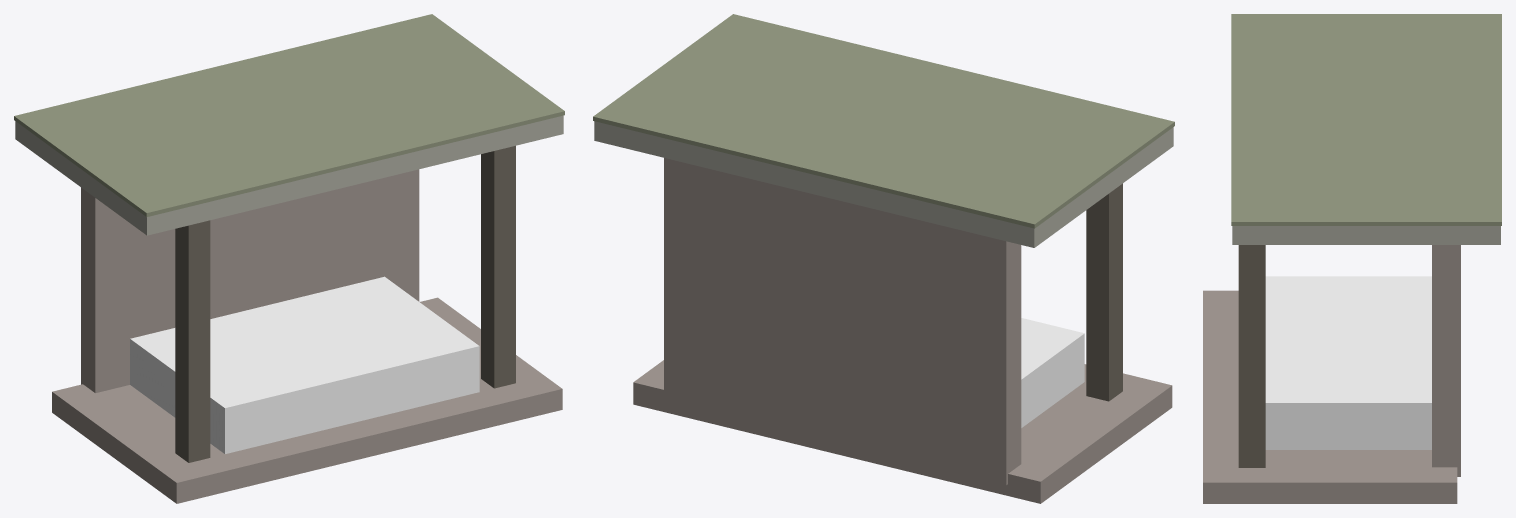
The model's file is covered_building.glb.
3 views of the same model, side by side, from view 1: azimuth 30°, elevation 25°; view 2: azimuth 150°, elevation 25°; view 3: azimuth 270°, elevation 25° (orthographic). The views are drawn at different scales.
Parts seen in each view (by area): view 1: Green canopy cap, Pebble stone platform, Solid rear wall, Low rectangular foundation, Thin overhanging canopy, Square vertical column, Square vertical column.001; view 2: Solid rear wall, Green canopy cap, Low rectangular foundation, Thin overhanging canopy, Square vertical column, Pebble stone platform; view 3: Green canopy cap, Pebble stone platform, Low rectangular foundation, Solid rear wall, Square vertical column.001, Thin overhanging canopy.
Part boxes in pixels (box(x1,y1,x2,y2)): Green canopy cap: box(14, 14, 564, 216); Pebble stone platform: box(130, 276, 479, 453); Solid rear wall: box(81, 169, 419, 393); Low rectangular foundation: box(52, 297, 562, 503); Thin overhanging canopy: box(15, 115, 563, 235); Square vertical column: box(175, 220, 210, 462); Square vertical column.001: box(481, 145, 515, 388); Solid rear wall: box(664, 158, 1021, 485); Green canopy cap: box(593, 14, 1174, 228); Low rectangular foundation: box(633, 360, 1172, 503); Thin overhanging canopy: box(594, 121, 1173, 247); Square vertical column: box(1086, 183, 1122, 401); Pebble stone platform: box(1021, 318, 1084, 427); Green canopy cap: box(1231, 14, 1501, 225); Pebble stone platform: box(1265, 276, 1431, 449); Low rectangular foundation: box(1203, 290, 1457, 503); Solid rear wall: box(1432, 245, 1460, 476); Square vertical column.001: box(1238, 245, 1265, 467); Thin overhanging canopy: box(1232, 226, 1500, 244).
Size of the model in its own units: 2.71 by 1.76 by 1.64.
